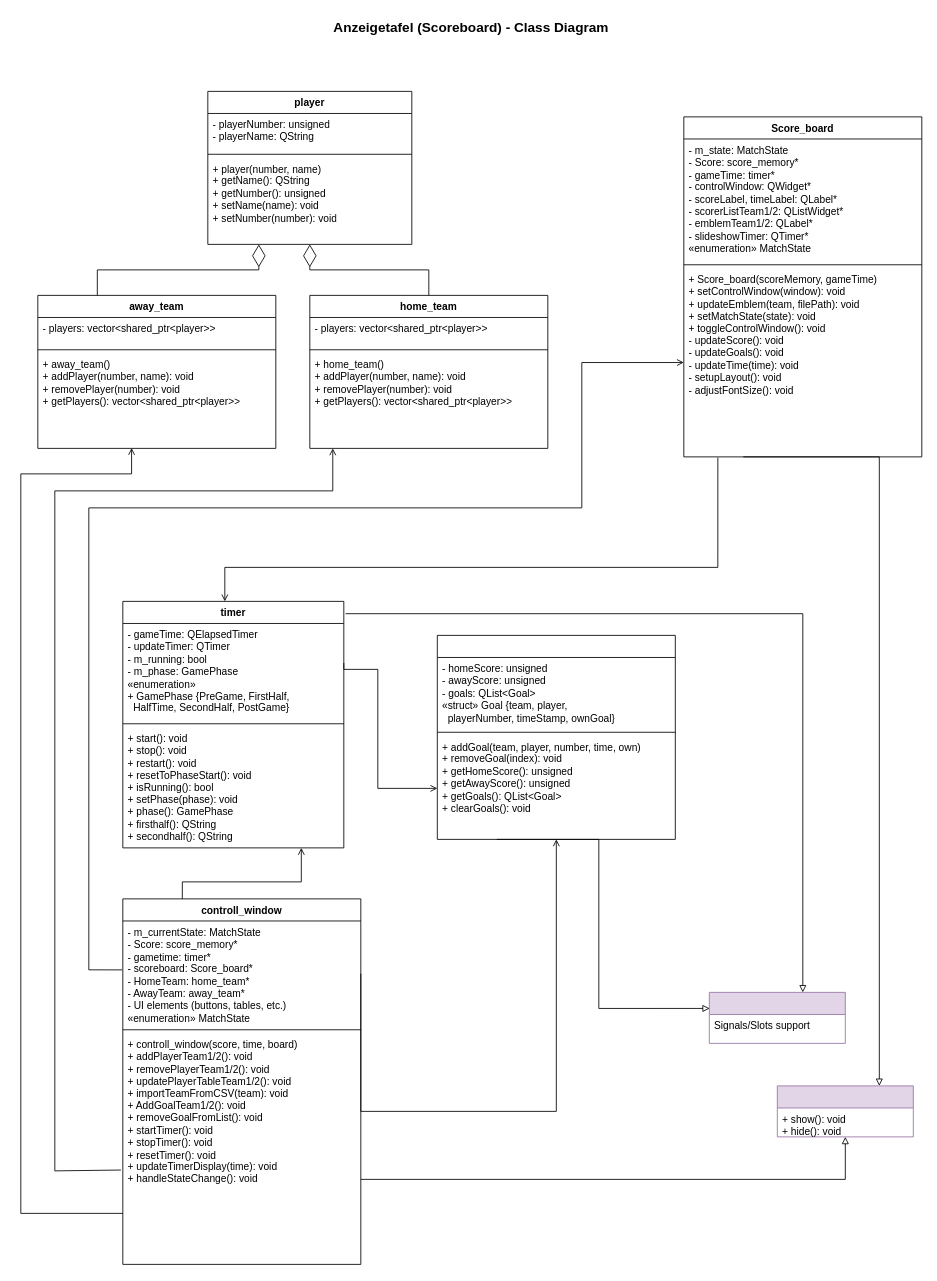
Image size: 937x1281. Some labels were removed from this diagram. The box of each missing label's shape, as (x1, y1, x2, y2) in pixels:
score_memory: (436, 635, 675, 839)
«Qt» QObject: (708, 992, 845, 1043)
«Qt» QWidget: (776, 1085, 913, 1137)
